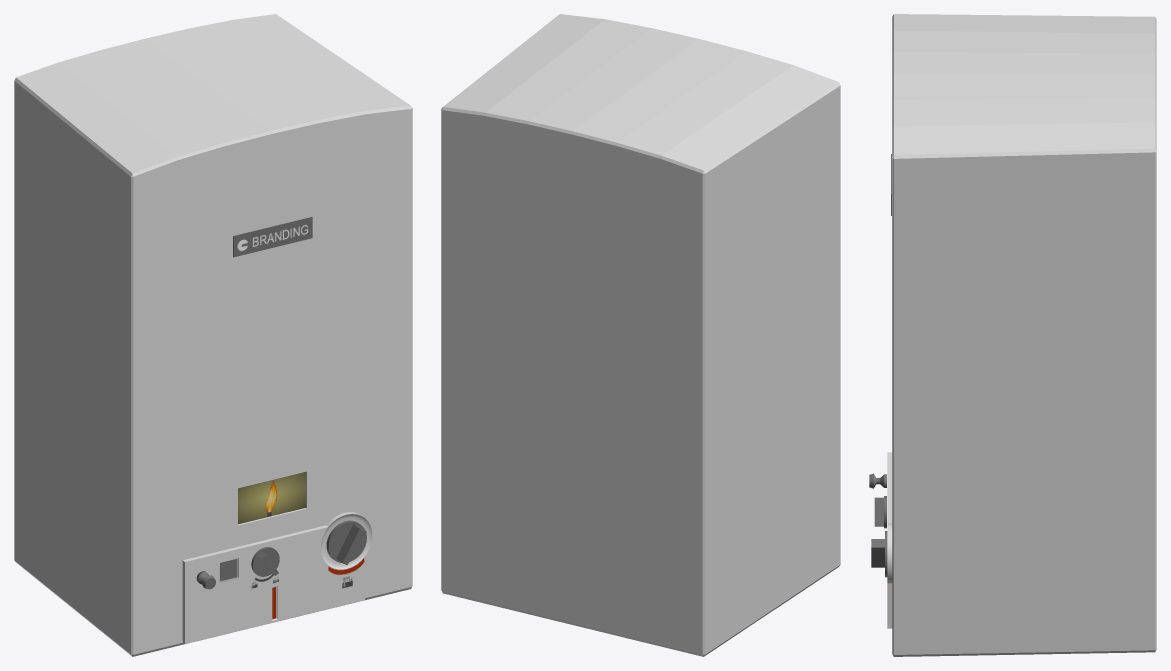
Rendered from sweethome3d-scopia-gaz-water-heater.glb.
3 renders of one model, left to right at view 1: azimuth 30°, elevation 25°; view 2: azimuth 150°, elevation 25°; view 3: azimuth 270°, elevation 25°, orthographic. The views are drawn at different scales.
Parts seen in each view (by area): view 1: Cube, Cube.001, Cube.002, Cube.003, Cube.004_Cube.007; view 2: Cube; view 3: Cube, Cube.001, Cube.003.
Boxes of the visible parts, left/top/right/bottom form: Cube: left=14, top=14, right=412, bottom=656; Cube.001: left=182, top=512, right=372, bottom=643; Cube.002: left=233, top=217, right=312, bottom=257; Cube.003: left=326, top=520, right=366, bottom=565; Cube.004_Cube.007: left=251, top=547, right=279, bottom=576; Cube: left=441, top=14, right=840, bottom=656; Cube: left=892, top=14, right=1156, bottom=656; Cube.001: left=887, top=452, right=892, bottom=628; Cube.003: left=871, top=531, right=887, bottom=577.
Bounding box in the file's own units: 40.49 × 67.63 × 34.47.
6 materials, 5 textured.
